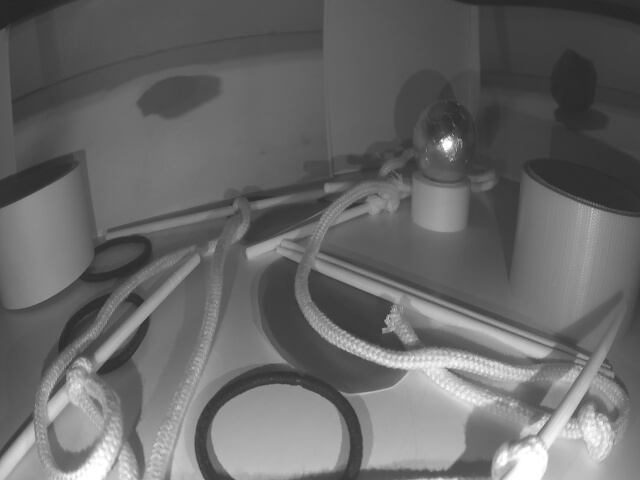Live: (415, 97, 476, 179)
